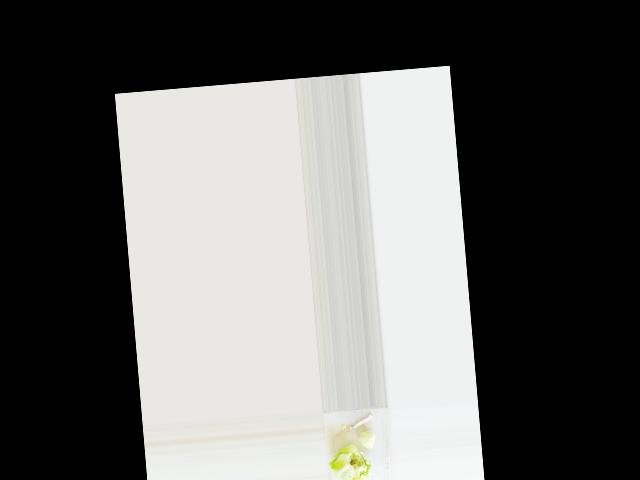lettuce: (330, 447, 373, 480)
